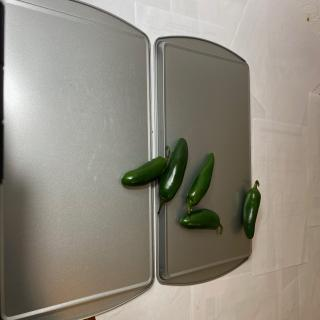Chilli: (180, 152, 222, 235)
Tomato: (121, 145, 170, 187), (180, 208, 223, 235), (242, 180, 261, 239)
